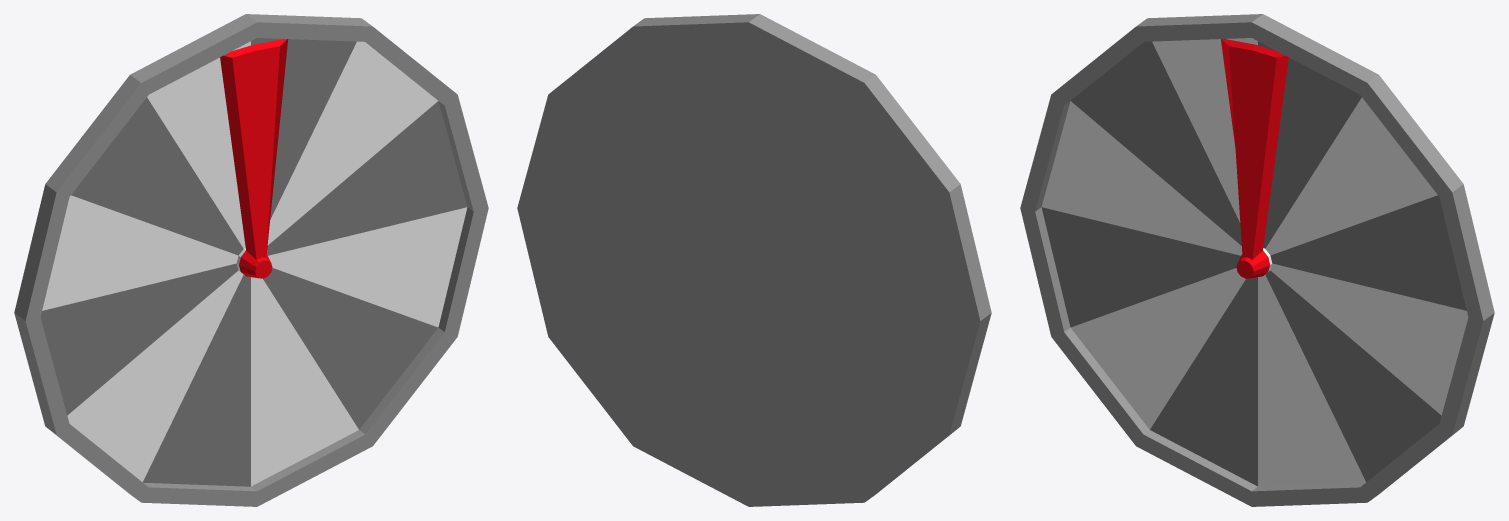
File: Clock.glb
3 renders of one model, left to right at view 1: azimuth 30°, elevation 25°; view 2: azimuth 150°, elevation 25°; view 3: azimuth 330°, elevation 25°, orthographic.
Parts seen in each view (by area): view 1: 钟表, 指针; view 2: 钟表; view 3: 钟表, 指针.
Part boxes in pixels (x1,y1,x2,y2): 钟表: (14,14,488,506); 指针: (220,39,288,278); 钟表: (517,14,991,506); 钟表: (1020,14,1494,506); 指针: (1221,39,1288,278).
Bounding box in the file's own units: 2 × 2 × 0.1354.
